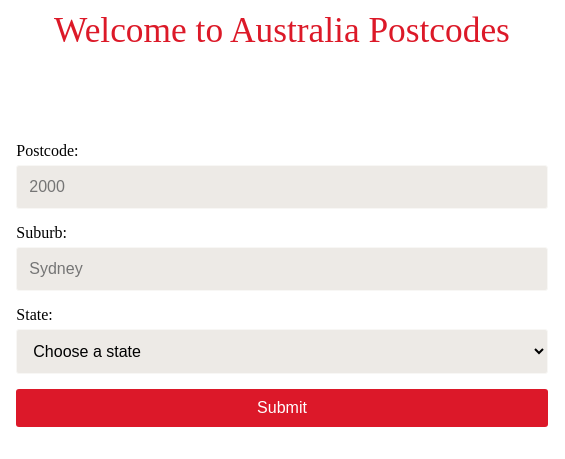
Scenario: invalid postcode is reported
Expected: the form is shown, [16,142,548,427]
Expected: the field with id "suburb" is shown, [16,247,548,291]
Type "204" into the field labelled "Postcode:".
click(282, 187); type("204")  # box [16,165,548,209]
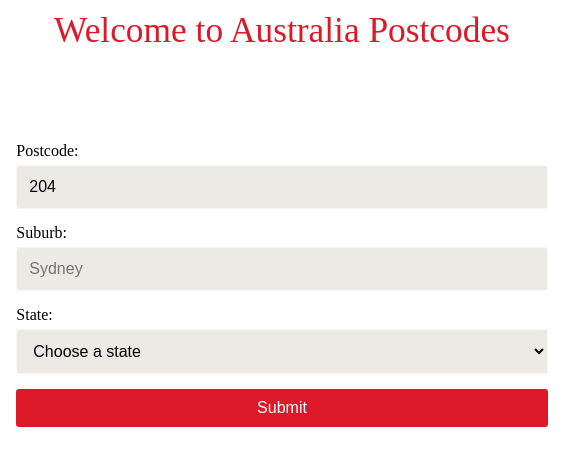
Type "Leichhardt" into the field with id "suburb".
click(282, 269); type("Leichhardt")  # box [16,247,548,291]
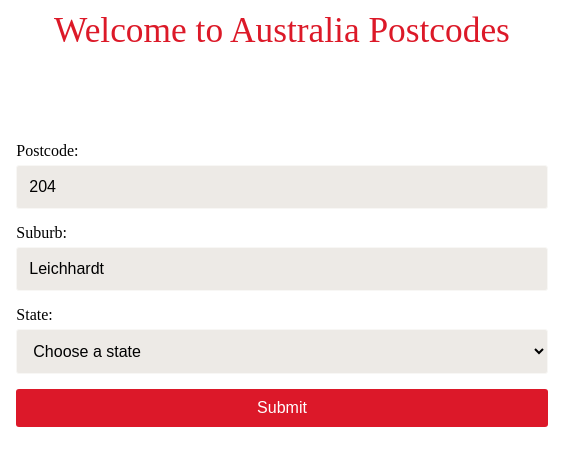
Select "NSW" in the dropdown with id "state" at (282, 352), box [16,329,548,374]
(page scrolled)
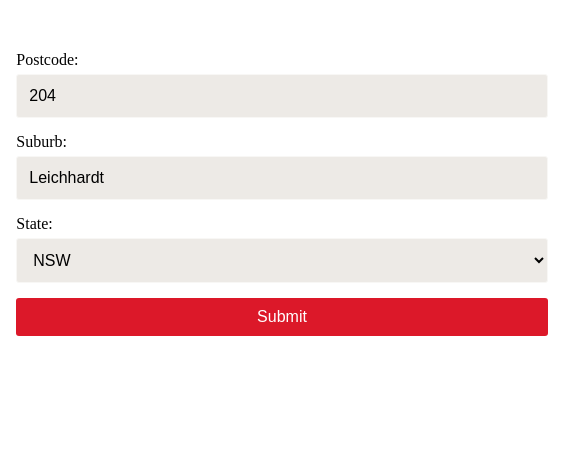
Submit the form, box [16,51,548,336]
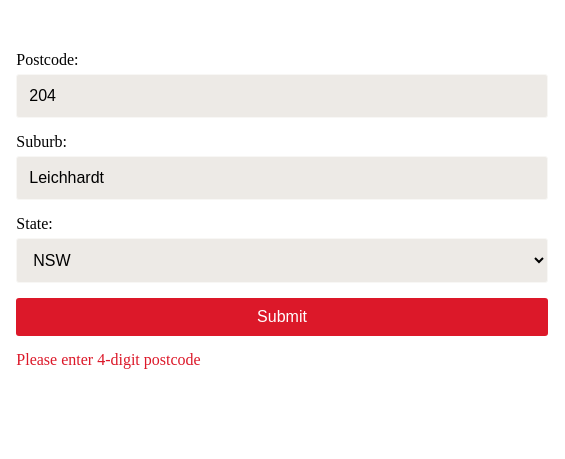
Result: the text named "validation-message" reads "Please enter 4-digit postcode" at [16,351,201,368]
